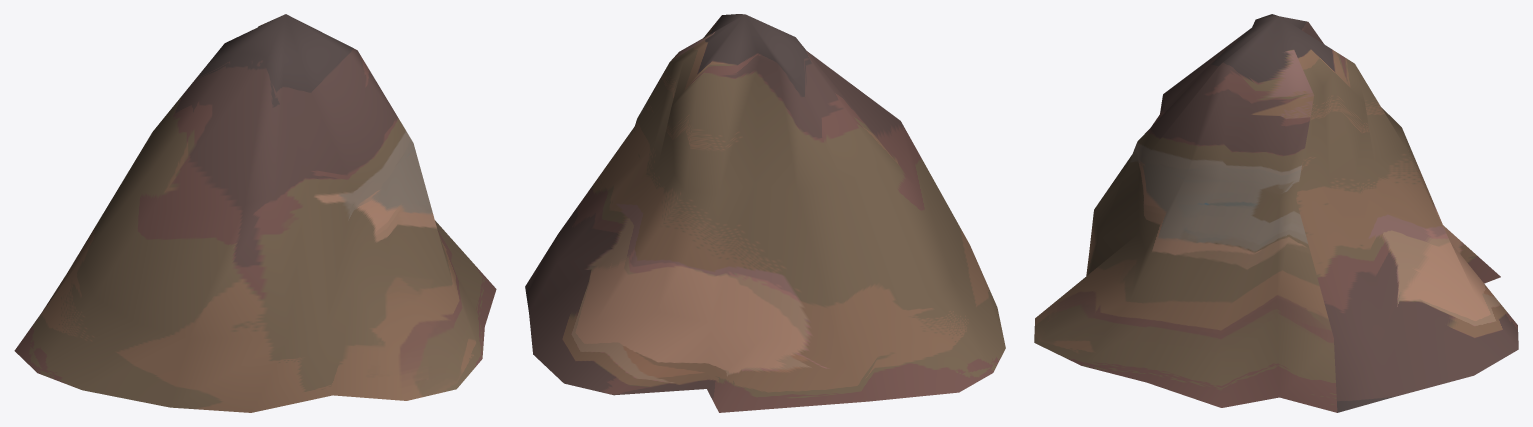
File: SlagPile.fbx
3 views of the same model, side by side, from view 1: azimuth 30°, elevation 25°; view 2: azimuth 150°, elevation 25°; view 3: azimuth 270°, elevation 25° (orthographic).
Parts seen in each view (by area): view 1: pCone1; view 2: pCone1; view 3: pCone1.
Part boxes in pixels (x1,y1,x2,y2): pCone1: (14, 14, 496, 412); pCone1: (525, 14, 1005, 412); pCone1: (1034, 14, 1518, 412).
Size of the model in its own units: 2.74 by 1.78 by 2.59.
